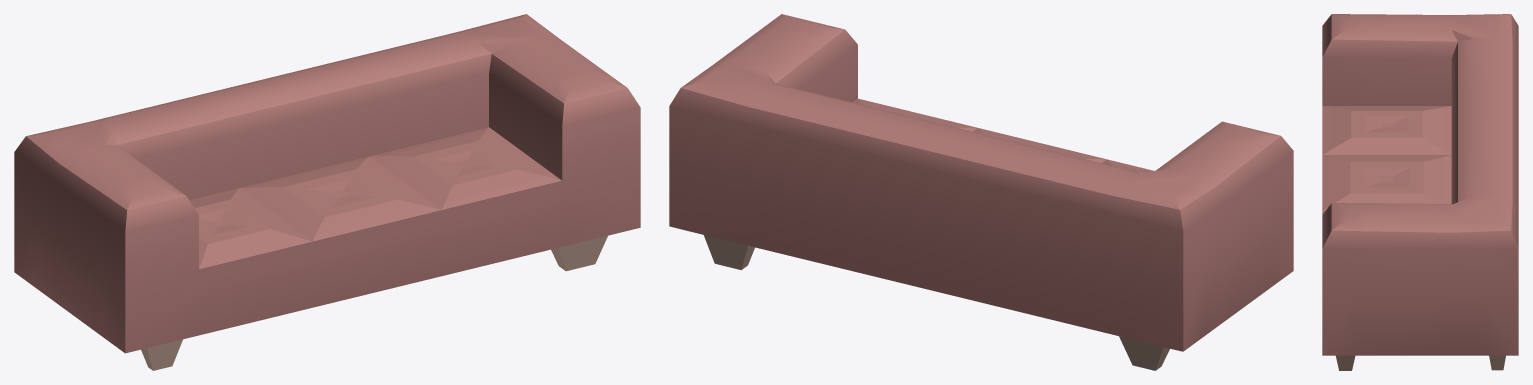
The model's file is sofa.fbx.
3 renders of one model, left to right at view 1: azimuth 30°, elevation 25°; view 2: azimuth 150°, elevation 25°; view 3: azimuth 270°, elevation 25°, orthographic. The views are drawn at different scales.
Parts seen in each view (by area): view 1: pCube48; view 2: pCube48; view 3: pCube48.
Boxes of the visible parts, bbox=[...] form: pCube48: bbox=[14, 14, 640, 370]; pCube48: bbox=[669, 14, 1293, 370]; pCube48: bbox=[1322, 14, 1518, 370].
Size of the model in its own units: 3.21 by 1.05 by 1.2.
